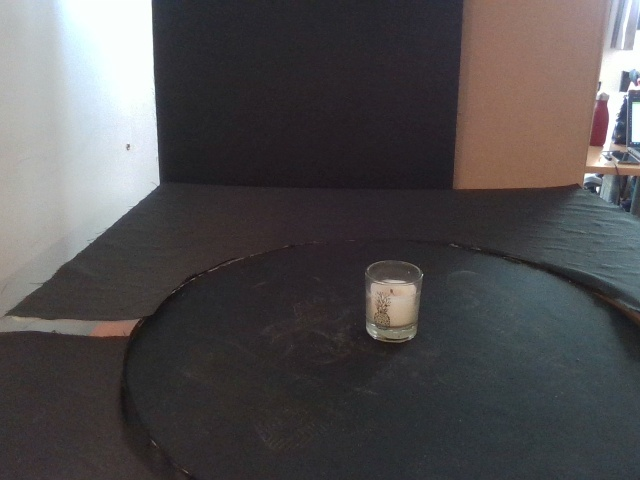candle: (364, 257, 424, 343)
